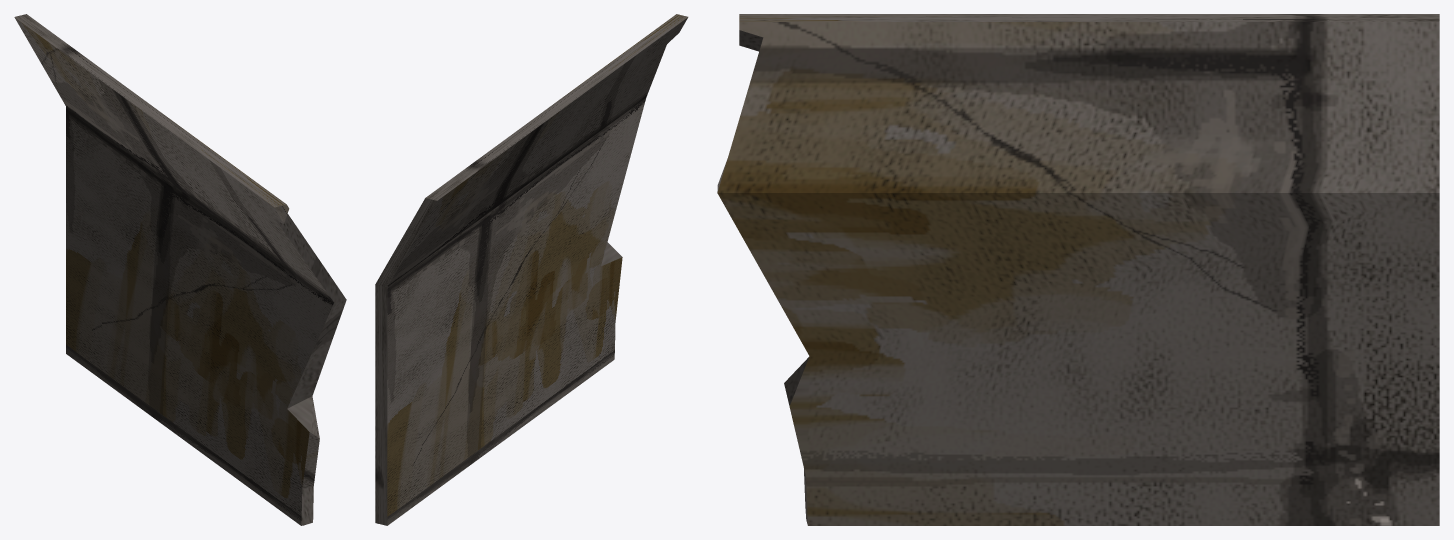
The model's file is SM_subdpwall2.fbx.
3 renders of one model, left to right at view 1: azimuth 30°, elevation 25°; view 2: azimuth 150°, elevation 25°; view 3: azimuth 270°, elevation 25°, orthographic. The views are drawn at different scales.
Visible parts, largest first — view 1: Cube.016; view 2: Cube.016; view 3: Cube.016.
Part boxes in pixels (x1,y1,x2,y2): Cube.016: (14, 14, 346, 525); Cube.016: (375, 14, 688, 525); Cube.016: (717, 14, 1439, 525).
Bounding box in the file's own units: 116 × 605 × 842.
